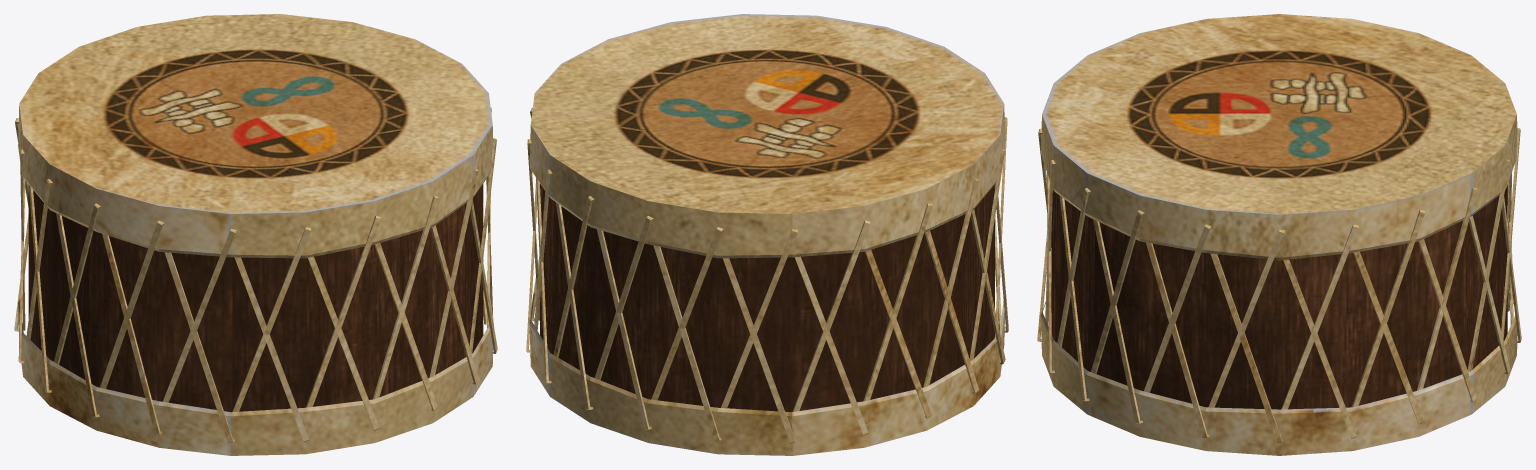
The model's file is instrument-great-drum.glb.
3 views of the same model, side by side, from view 1: azimuth 30°, elevation 25°; view 2: azimuth 150°, elevation 25°; view 3: azimuth 270°, elevation 25° (orthographic).
Parts seen in each view (by area): view 1: instrument_great_drum (×3); view 2: instrument_great_drum (×3); view 3: instrument_great_drum (×3).
Boxes of the visible parts, bbox=[...] form: instrument_great_drum (×3): bbox=[14, 14, 497, 455]; instrument_great_drum (×3): bbox=[526, 14, 1008, 455]; instrument_great_drum (×3): bbox=[1037, 14, 1521, 455].
Size of the model in its own units: 3.93 by 2.16 by 3.93.
Materials: 3 (3 with a texture image).
